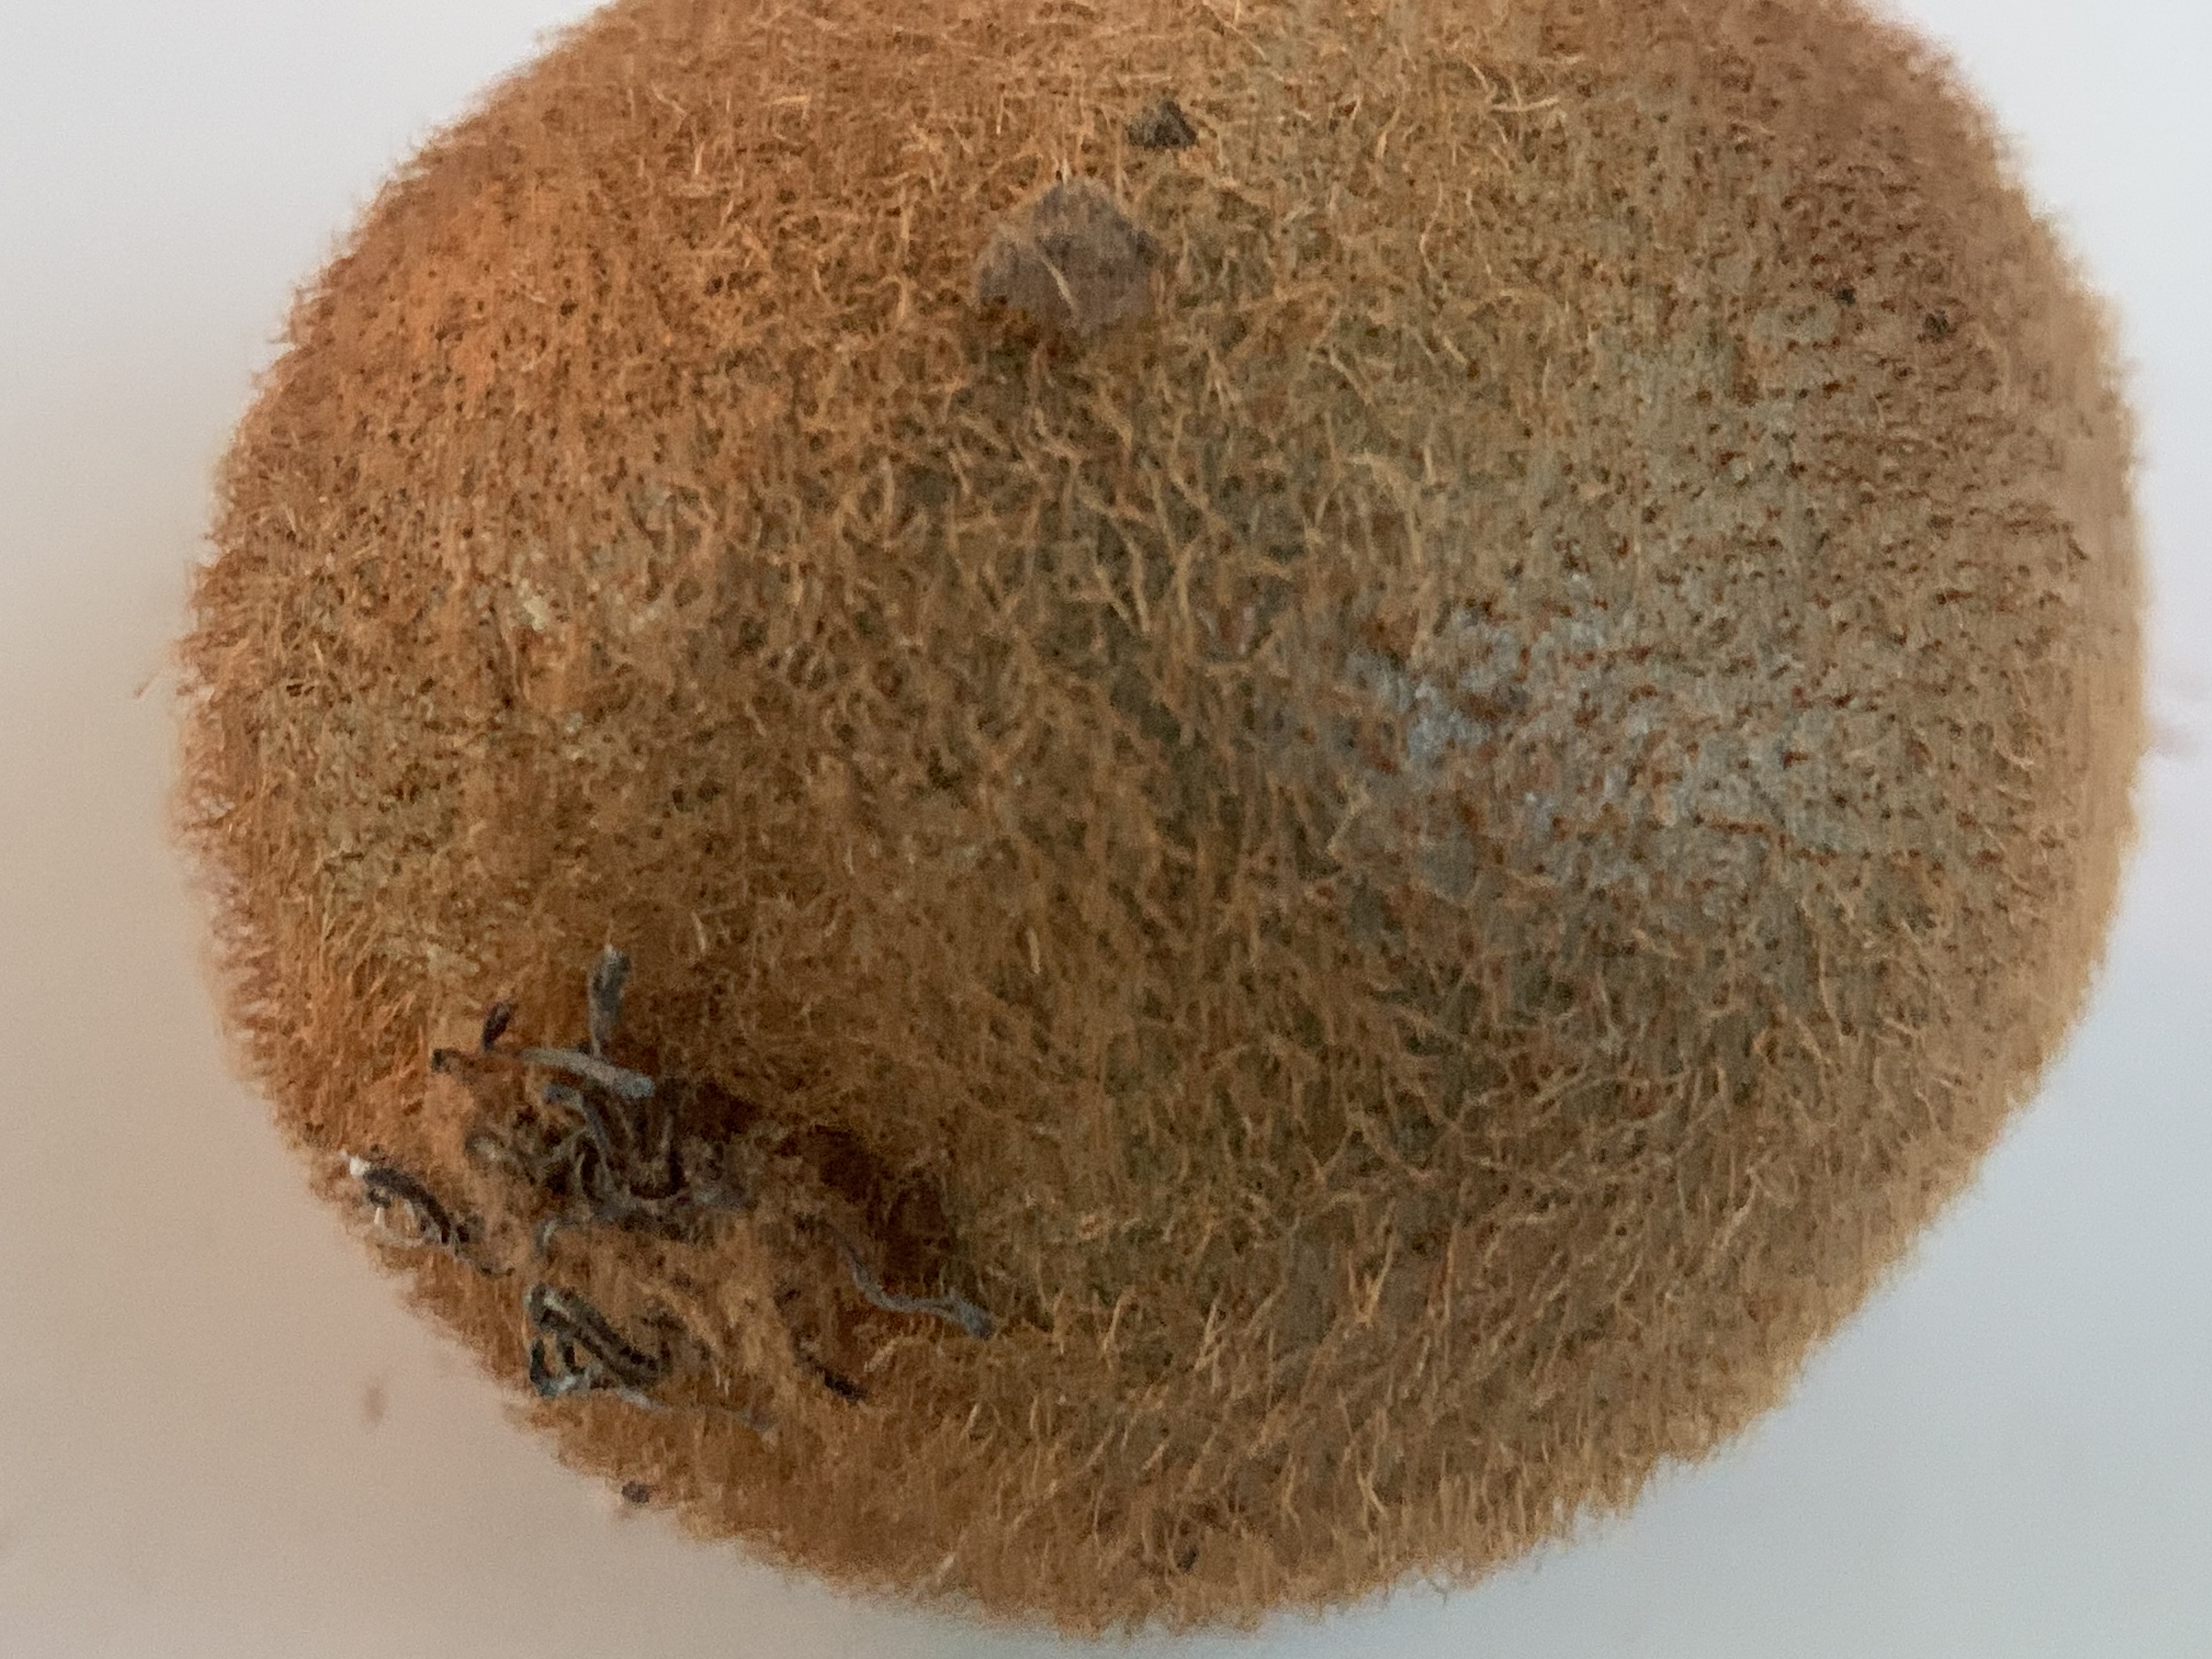kiwi: (172, 3, 2149, 1614)
